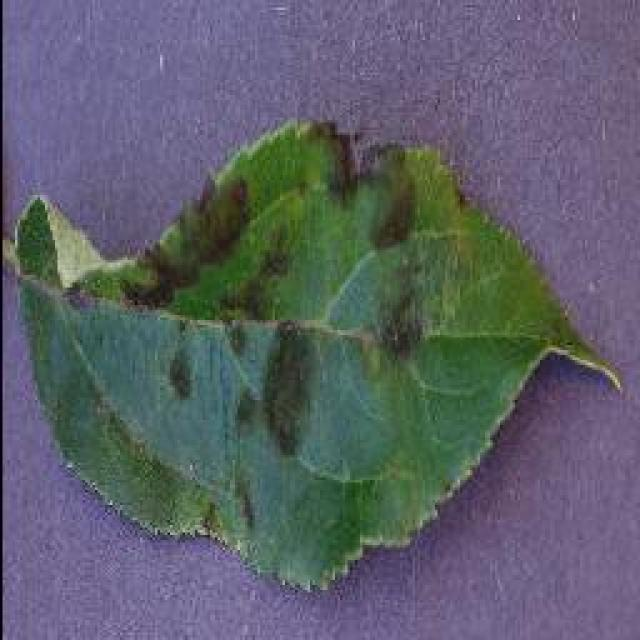Apple___Apple_scab: (13, 111, 626, 597)
